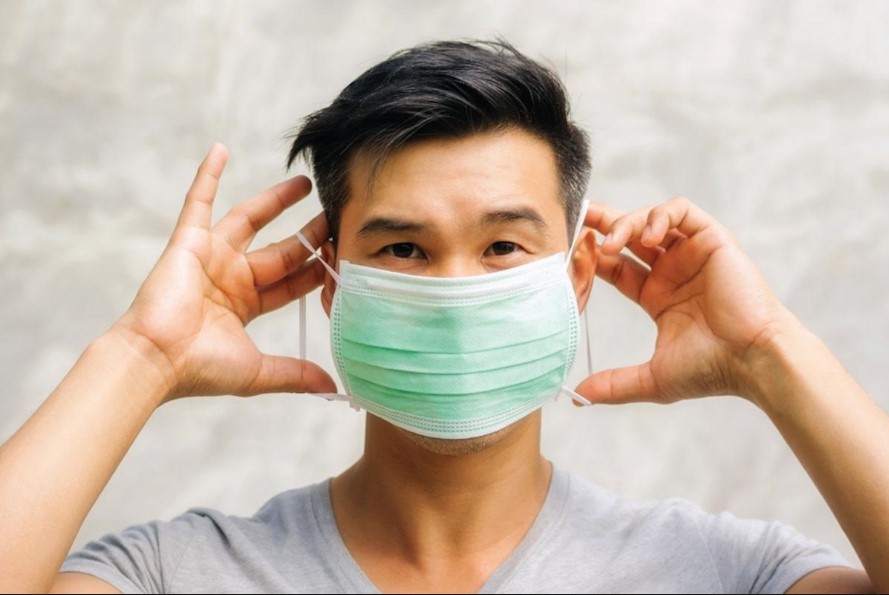face_with_mask: (318, 49, 598, 441)
